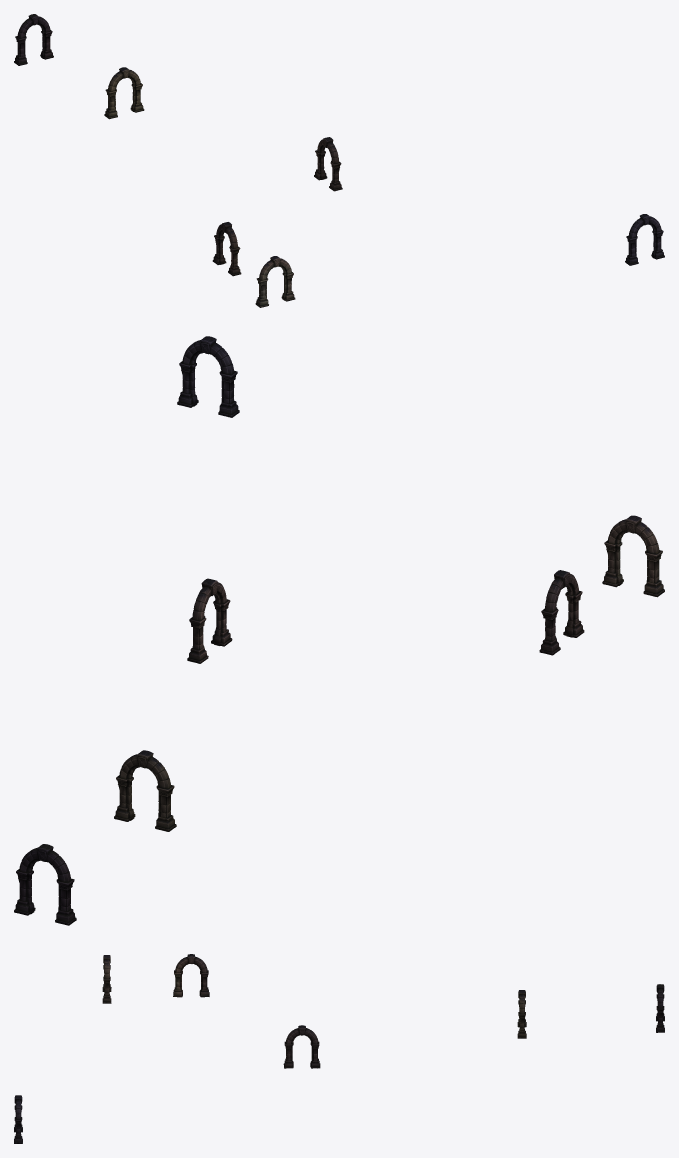
File: dg_arch_gate.glb
3 renders of one model, top to bottom at view 1: azimuth 30°, elevation 25°; view 2: azimuth 150°, elevation 25°; view 3: azimuth 270°, elevation 25°, orthographic. The views are drawn at different scales.
Visible parts, largest first — view 1: DECO_DGP_ARCH_GATE; view 2: DECO_DGP_ARCH_GATE; view 3: DECO_DGP_ARCH_GATE.
Boxes of the visible parts, <box> form: DECO_DGP_ARCH_GATE: <box>14,14,664,307</box>; DECO_DGP_ARCH_GATE: <box>14,336,664,925</box>; DECO_DGP_ARCH_GATE: <box>14,954,664,1143</box>.
Size of the model in its own units: 26.65 by 3.2 by 47.05.
Materials: 1 (1 with a texture image).
